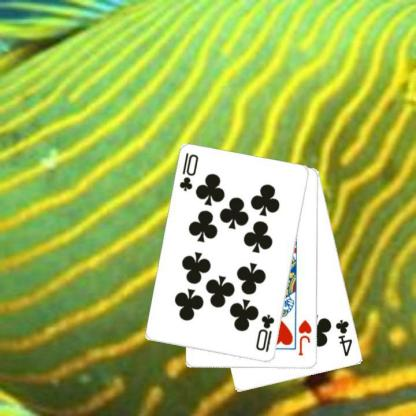10C: (177, 150, 200, 193), (253, 312, 276, 354)
4C: (334, 317, 354, 358)
JH: (296, 318, 314, 357)
